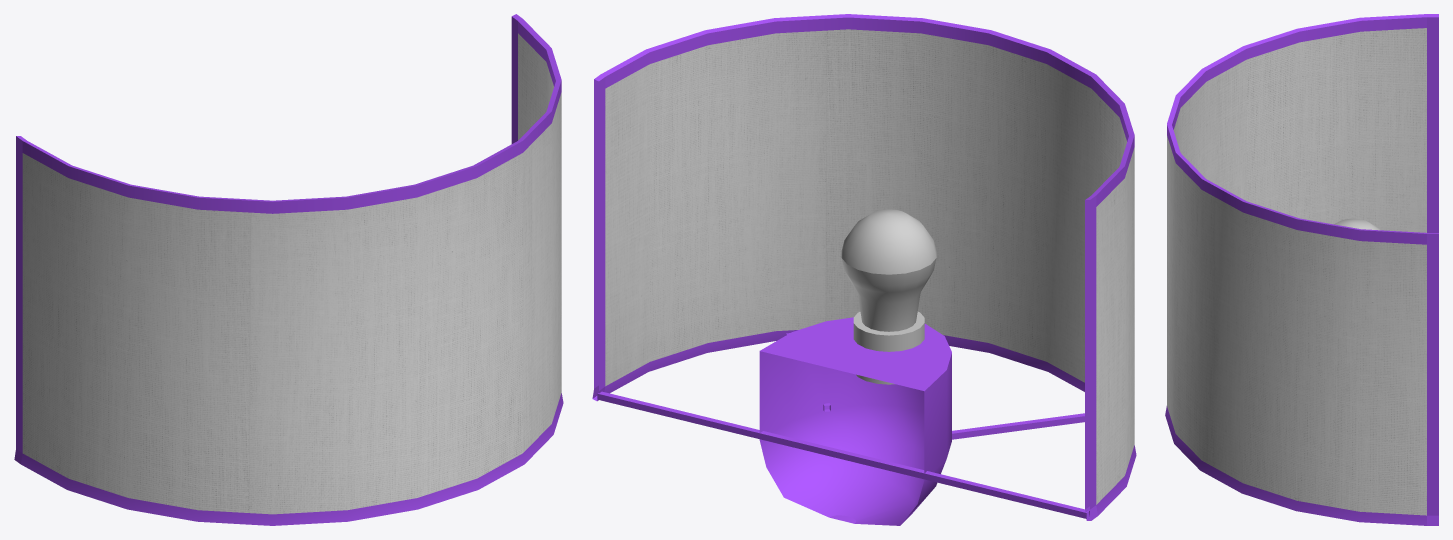
Rendered from LightWall10_3.FBX.
3 renders of one model, left to right at view 1: azimuth 30°, elevation 25°; view 2: azimuth 150°, elevation 25°; view 3: azimuth 270°, elevation 25°, orthographic. The views are drawn at different scales.
Parts seen in each view (by area): view 1: LightWall10_3; view 2: LightWall10_3; view 3: LightWall10_3.
Part boxes in pixels (bbox=[...]): LightWall10_3: bbox=[14, 14, 563, 525]; LightWall10_3: bbox=[592, 14, 1136, 525]; LightWall10_3: bbox=[1165, 14, 1438, 525].
Size of the model in its own units: 26.17 by 19.1 by 13.67.
